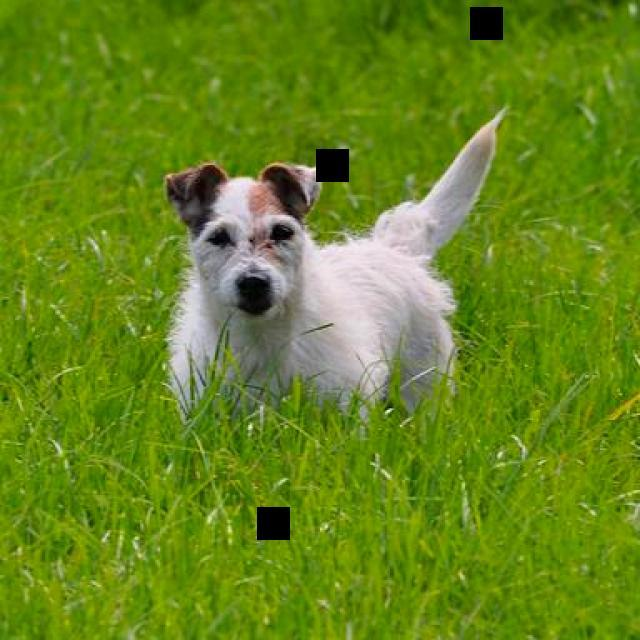adult_dog: (162, 100, 512, 449)
